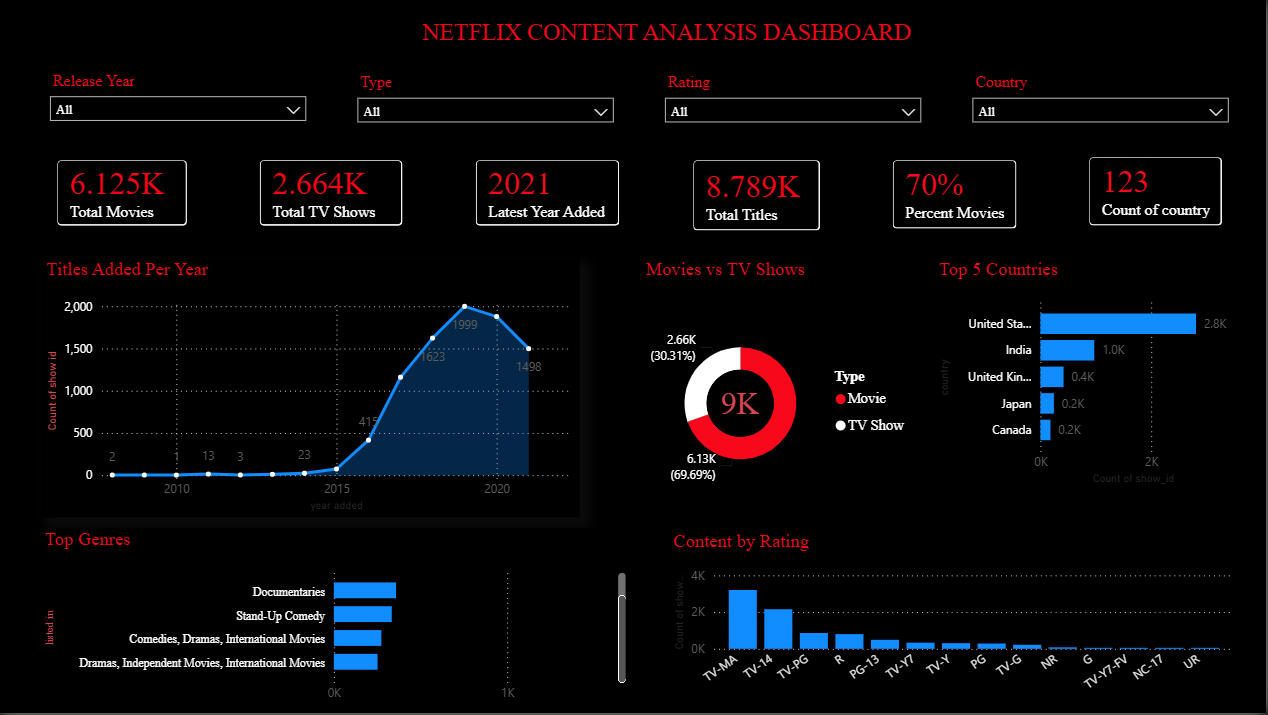

Layout of this report page (visuals, bound fields, positions):
{"tool":"powerbi","page":{"name":"Page 1","canvas":[1280,720],"ordinal":0},"visuals":[{"type":"cardVisual","fields":{"Data":["Count(netflix_cleaned.show_id)"]},"box":[682.6,143.8,164.4,107.1],"z":0},{"type":"cardVisual","fields":{"Data":["CountNonNull(netflix_cleaned.show_id)"]},"box":[41.1,143.8,167.3,102.7],"z":1000},{"type":"cardVisual","fields":{"Data":["CountNonNull(netflix_cleaned.show_id)"]},"box":[245.6,143.8,180.5,102.7],"z":2000},{"type":"cardVisual","fields":{"Data":["Count(Countries_Split.country)"]},"box":[1083,140.9,170.2,105.7],"z":3000},{"type":"slicer","fields":{"Values":["netflix_cleaned.type"]},"box":[352.1,68.1,279.7,75.6],"z":4000},{"type":"slicer","fields":{"Values":["Countries_Split.country"]},"box":[973.2,68,279.7,75.6],"z":5000},{"type":"slicer","fields":{"Values":["netflix_cleaned.rating"]},"box":[662.7,68.1,279.7,73.7],"z":6000},{"type":"slicer","fields":{"Values":["netflix_cleaned.release_year"]},"box":[41.6,66.1,279.7,75.6],"z":7000},{"type":"areaChart","title":"Titles Added Per Year","fields":{"Category":["netflix_cleaned.year_added"],"Y":["CountNonNull(netflix_cleaned.show_id)"]},"box":[42.4,260.6,543.9,262.1],"z":8000},{"type":"donutChart","title":"Movies vs TV Shows","fields":{"Category":["netflix_cleaned.type"],"Y":["CountNonNull(netflix_cleaned.show_id)"]},"box":[648.5,260.6,280.1,262],"z":9000},{"type":"barChart","title":"Top Genres","fields":{"Category":["netflix_cleaned.listed_in"],"Y":["CountNonNull(netflix_cleaned.show_id)"]},"box":[40.9,533.3,598.5,186.4],"z":10000},{"type":"barChart","title":"Top 5 Countries","fields":{"Category":["netflix_cleaned.country"],"Y":["CountNonNull(netflix_cleaned.show_id)"]},"box":[943.9,260.6,309.1,234.8],"z":11000},{"type":"columnChart","title":"Content by Rating","fields":{"Category":["netflix_cleaned.rating"],"Y":["CountNonNull(netflix_cleaned.show_id)"]},"box":[675.8,534.8,577.3,184.8],"z":12000},{"type":"textbox","title":"NETFLIX CONTENT ANALYSIS DASHBOARD","box":[422.5,18.2,505.7,31.8],"z":13000},{"type":"cardVisual","fields":{"Data":["Max(netflix_cleaned.year_added)"]},"box":[463.4,143.8,182,102.7],"z":14000},{"type":"cardVisual","fields":{"Data":["netflix_cleaned.Percent Movies"]},"box":[884.3,143.8,161.4,105.7],"z":15000}]}

Visuals, with their boxes in screenshot pixels (x1, y1, x2, y2), scaled from the page's 1280x720 canvas onto the 1268x715 screenshot:
cardVisual - Count(netflix_cleaned.show_id): box(676, 143, 839, 249)
cardVisual - CountNonNull(netflix_cleaned.show_id): box(41, 143, 206, 245)
cardVisual - CountNonNull(netflix_cleaned.show_id): box(243, 143, 422, 245)
cardVisual - Count(Countries_Split.country): box(1073, 140, 1241, 245)
slicer - netflix_cleaned.type: box(349, 68, 626, 143)
slicer - Countries_Split.country: box(964, 68, 1241, 143)
slicer - netflix_cleaned.rating: box(656, 68, 934, 141)
slicer - netflix_cleaned.release_year: box(41, 66, 318, 141)
"Titles Added Per Year" areaChart: box(42, 259, 581, 519)
"Movies vs TV Shows" donutChart: box(642, 259, 920, 519)
"Top Genres" barChart: box(41, 530, 633, 714)
"Top 5 Countries" barChart: box(935, 259, 1241, 492)
"Content by Rating" columnChart: box(669, 531, 1241, 714)
"NETFLIX CONTENT ANALYSIS DASHBOARD" textbox: box(419, 18, 919, 50)
cardVisual - Max(netflix_cleaned.year_added): box(459, 143, 639, 245)
cardVisual - netflix_cleaned.Percent Movies: box(876, 143, 1036, 248)
